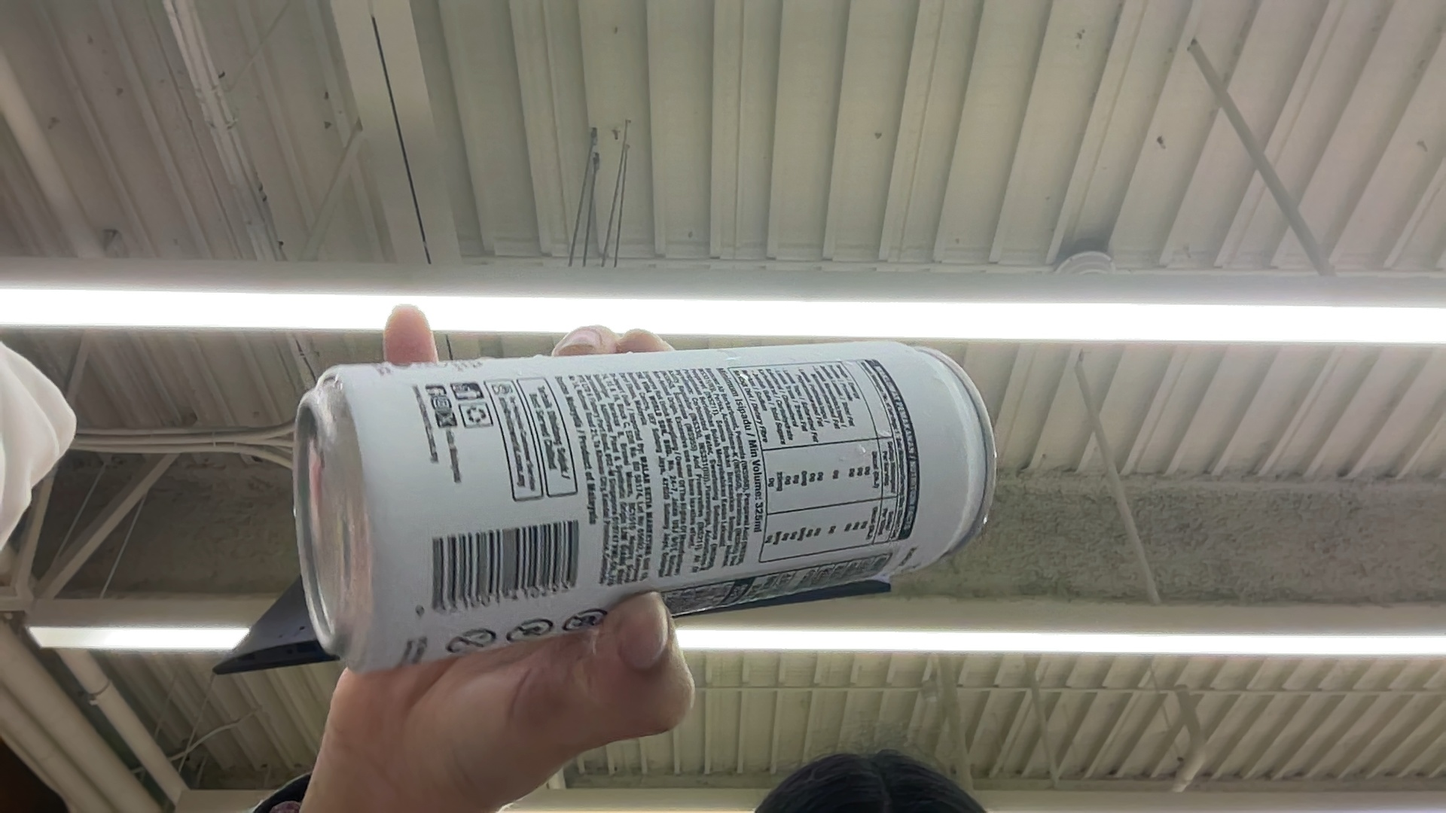Metal: (252, 294, 999, 781)
